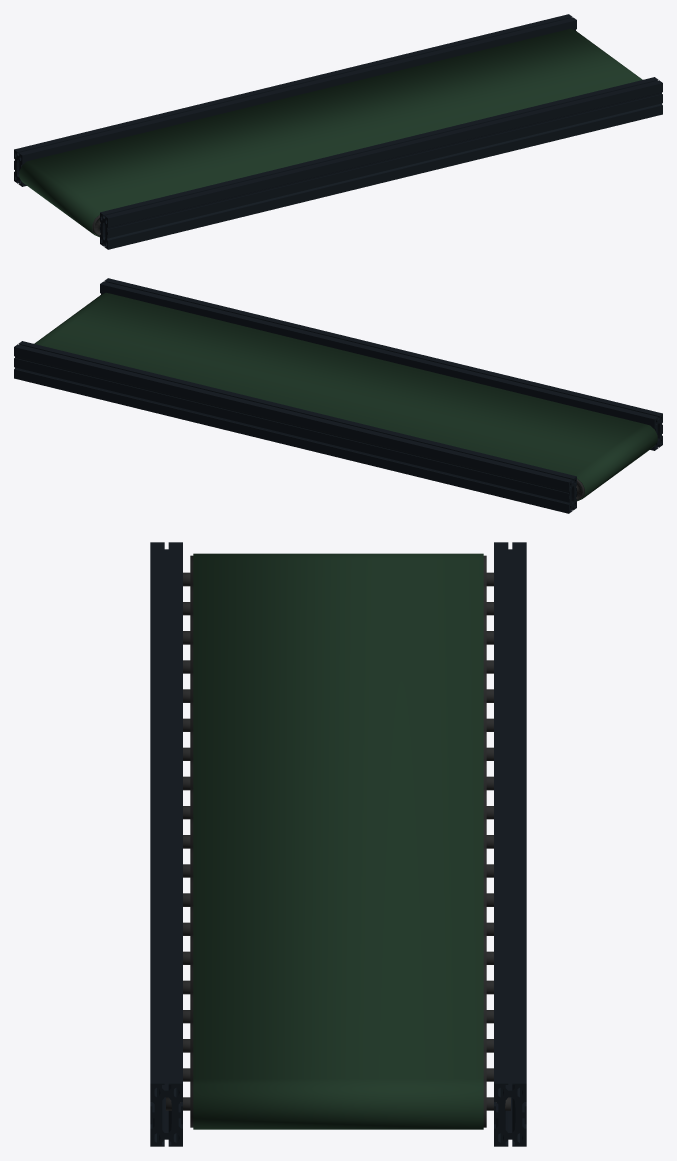
File: ConveerOnly.obj
3 views of the same model, one above another, from view 1: azimuth 30°, elevation 25°; view 2: azimuth 150°, elevation 25°; view 3: azimuth 270°, elevation 25° (orthographic). The views are drawn at different scales.
Parts seen in each view (by area): view 1: Plane, Reika.003, Reika, Reika.002; view 2: Plane, Reika, Reika.003, Reika.002; view 3: Plane, Reika, Reika.003, Reika.002, Circle.001.
Boxes of the visible parts, x1,y1,x2,y2 form: Plane: [19, 28, 642, 237]; Reika.003: [145, 88, 618, 238]; Reika: [59, 25, 532, 151]; Reika.002: [14, 14, 662, 249]; Plane: [34, 292, 657, 501]; Reika: [58, 352, 531, 502]; Reika.003: [144, 289, 617, 415]; Reika.002: [14, 278, 662, 513]; Plane: [193, 553, 483, 1129]; Reika: [494, 585, 526, 1046]; Reika.003: [150, 585, 182, 1046]; Reika.002: [150, 542, 526, 1146]; Circle.001: [166, 555, 510, 1127].
Bounding box in the file's own units: 14.95 × 0.8019 × 4.35.
